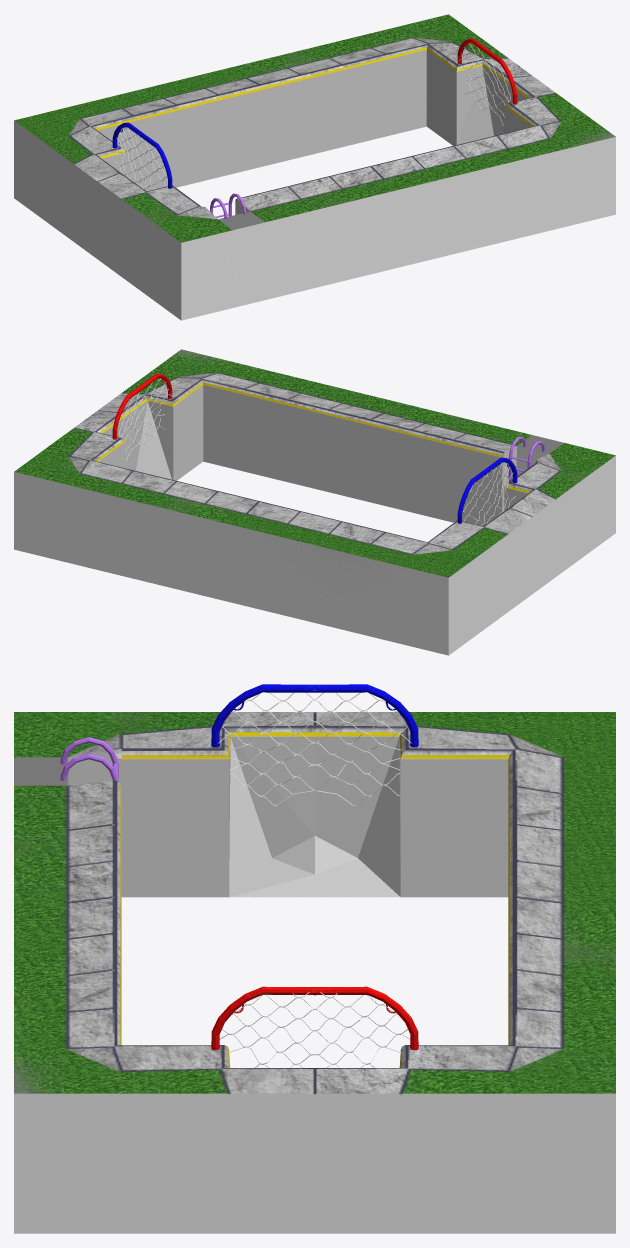
Rendered from Pool.glb.
3 views of the same model, one above another, from view 1: azimuth 30°, elevation 25°; view 2: azimuth 150°, elevation 25°; view 3: azimuth 270°, elevation 25° (orthographic). The views are drawn at different scales.
Visible parts, largest first — view 1: Cube, Cylinder; view 2: Cube, Cylinder; view 3: Cube, Cylinder.
Part boxes in pixels (box(x1,y1,x2,y2)): Cube: box(14, 14, 615, 320); Cylinder: box(112, 38, 517, 190); Cube: box(14, 349, 615, 655); Cylinder: box(112, 373, 517, 525); Cube: box(14, 712, 615, 1233); Cylinder: box(211, 684, 418, 1067).
Size of the model in its own units: 21 by 5.31 by 14.
2 materials, 2 textured.
